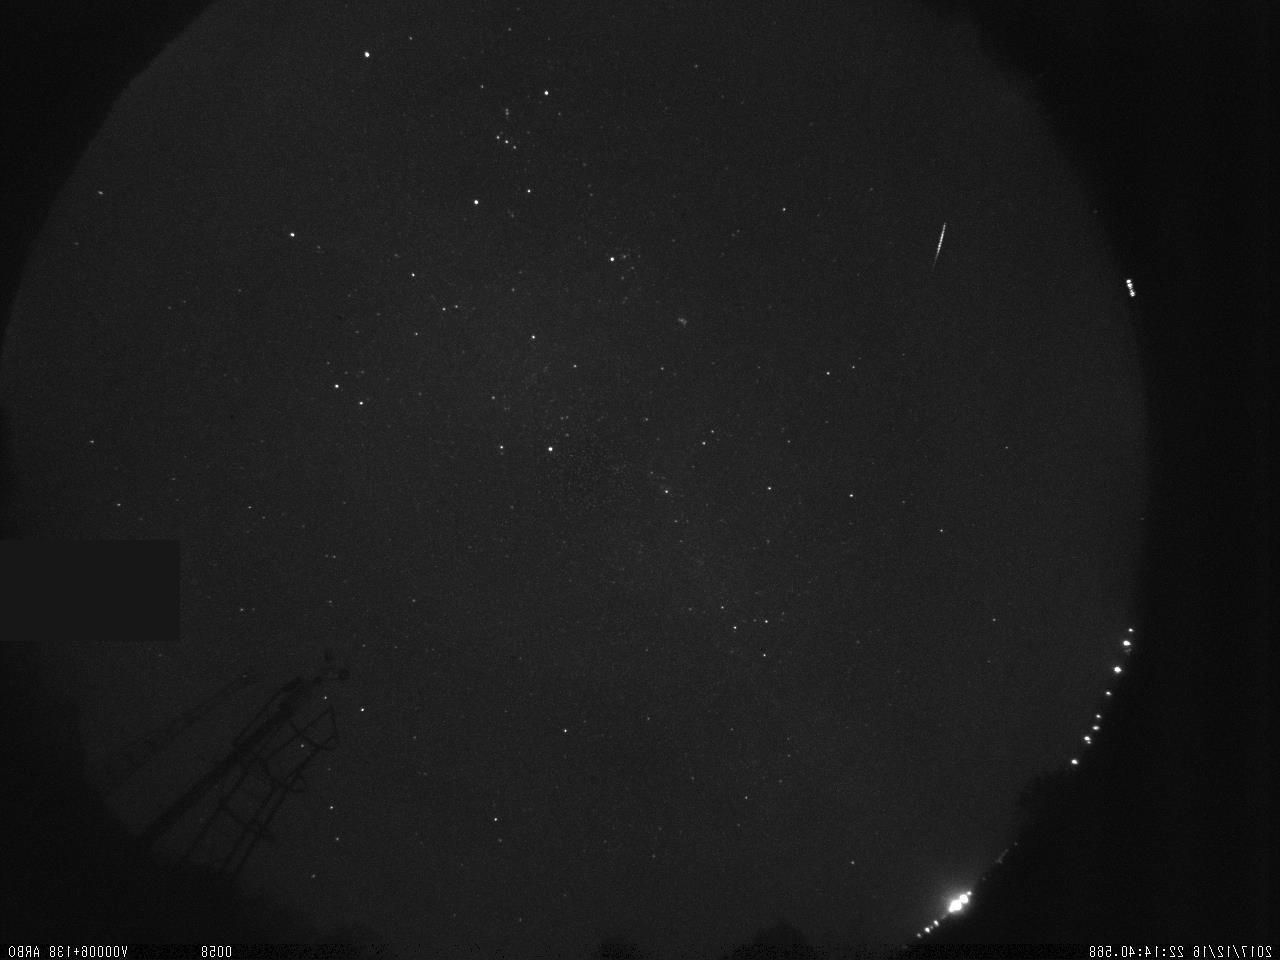meteor: (917, 224, 950, 271)
